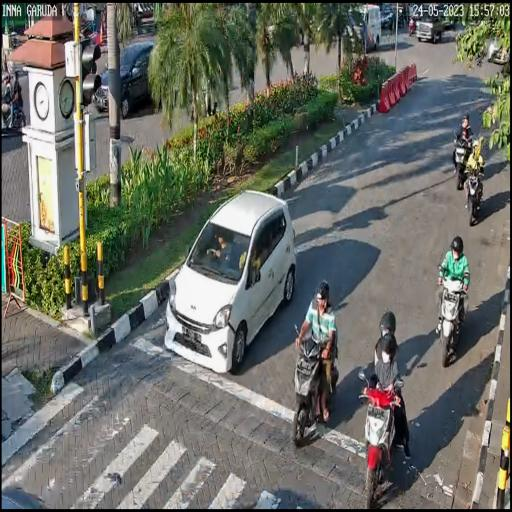mobil: (160, 190, 299, 376)
motor: (355, 370, 414, 507), (294, 323, 340, 448), (436, 267, 470, 367), (463, 161, 486, 227), (453, 128, 474, 190)
